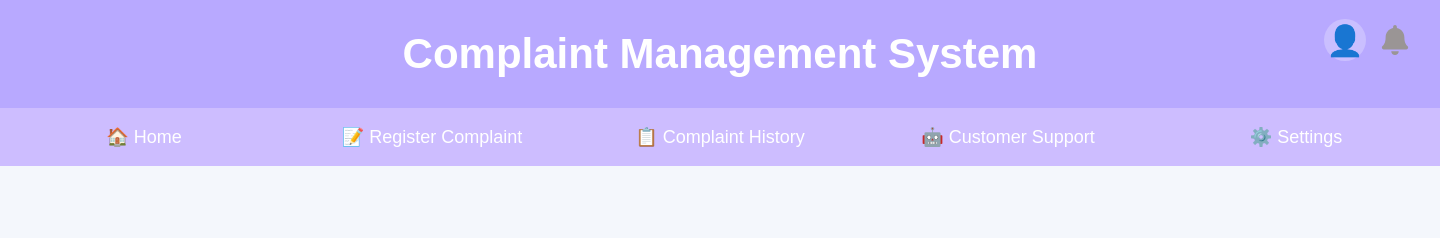
Test: UserDashboard Component › uses localStorage values correctly
What coordinates should you click on to do the following:
click the icon "👤"
I would click on:
 (1345, 40)
Its box is [1324,19,1366,61].
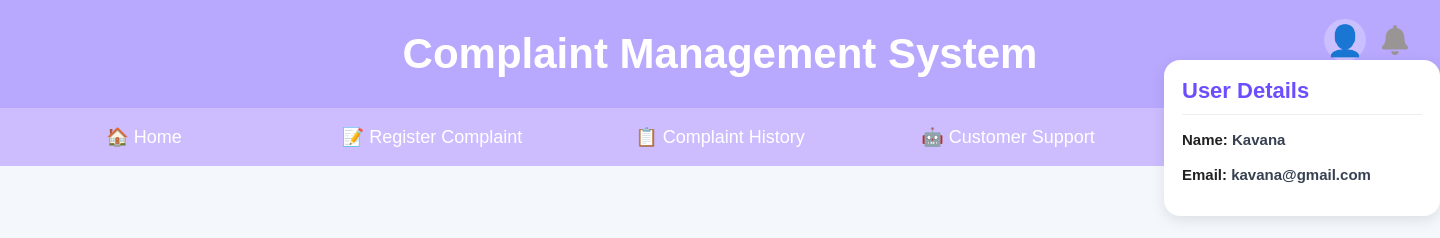
Now the text "Email: kavana@gmail.com" is shown, box [1182,166,1371,182]
